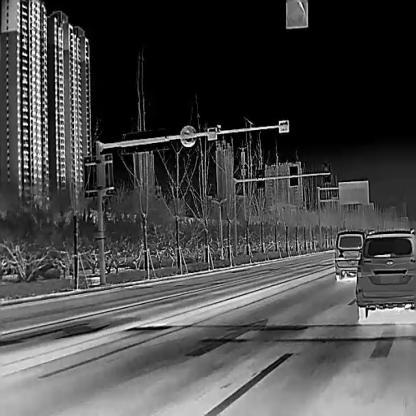car: (354, 228, 415, 317), (333, 229, 364, 281)
